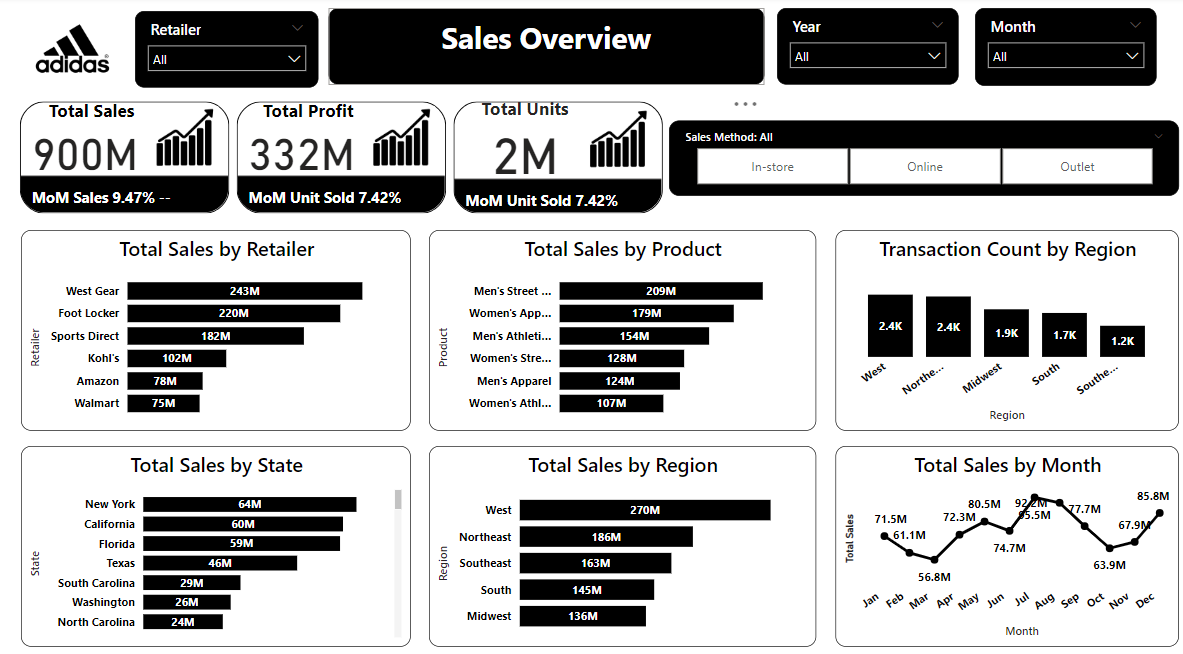

The page's visual inventory and layout, read from the dashboard file:
{"tool":"powerbi","page":{"name":"Sales Overview","canvas":[1280,720],"ordinal":1},"visuals":[{"type":"cardVisual","fields":{"Data":["Sum(Data Sales Adidas.Total Sales)","Data Sales Adidas.Total Profit","Data Sales Adidas.Total Units"]},"box":[15.8,108.2,706.8,131.6],"z":0},{"type":"clusteredBarChart","fields":{"Category":["Data Sales Adidas.Retailer"],"Y":["Sum(Data Sales Adidas.Total Sales)"]},"box":[22.7,252.6,421,217],"z":1000},{"type":"slicer","fields":{"Values":["Data Sales Adidas.Sales Method"]},"box":[722.6,134.5,550.9,81],"z":2000},{"type":"clusteredBarChart","fields":{"Category":["Data Sales Adidas.Product"],"Y":["Sum(Data Sales Adidas.Total Sales)"]},"box":[463.1,252.6,417.8,217],"z":3000},{"type":"clusteredBarChart","fields":{"Y":["Sum(Data Sales Adidas.Total Sales)"],"Category":["Location.State"]},"box":[22.7,485.8,421,217],"z":4000},{"type":"clusteredBarChart","fields":{"Y":["Sum(Data Sales Adidas.Total Sales)"],"Category":["Location.Region"]},"box":[463.1,485.8,417.8,217],"z":5000},{"type":"lineChart","title":"Total Sales by Month","fields":{"Y":["Sum(Data Sales Adidas.Total Sales)"],"Category":["Calendar.FYMonthName"]},"box":[901.9,485.8,370.8,217],"z":6000},{"type":"clusteredColumnChart","fields":{"Category":["Location.Region"],"Y":["Data Sales Adidas.Transaction Count"]},"box":[901.9,252.6,370.8,217],"z":7000},{"type":"slicer","fields":{"Values":["Calendar.Year"]},"box":[839.2,13.7,196.1,82.4],"z":8000},{"type":"slicer","fields":{"Values":["Calendar.FYMonthName"]},"box":[1052.9,13.7,196.1,84.3],"z":9000},{"type":"slicer","fields":{"Values":["Data Sales Adidas.Retailer"]},"box":[145.1,15.7,198,82.4],"z":10000},{"type":"image","box":[15.7,0,123.5,113.7],"z":11000},{"type":"textbox","box":[354.9,13.7,470.6,82.4],"z":12000}]}

Visuals, with their boxes in screenshot pixels (x1, y1, x2, y2), scaled from the page's 1280x720 canvas onto the 1183x654 screenshot:
cardVisual - Sum(Data Sales Adidas.Total Sales) x Data Sales Adidas.Total Profit: bbox(15, 98, 668, 218)
clusteredBarChart - Data Sales Adidas.Retailer x Sum(Data Sales Adidas.Total Sales): bbox(21, 229, 410, 427)
slicer - Data Sales Adidas.Sales Method: bbox(668, 122, 1177, 196)
clusteredBarChart - Data Sales Adidas.Product x Sum(Data Sales Adidas.Total Sales): bbox(428, 229, 814, 427)
clusteredBarChart - Sum(Data Sales Adidas.Total Sales) x Location.State: bbox(21, 441, 410, 638)
clusteredBarChart - Sum(Data Sales Adidas.Total Sales) x Location.Region: bbox(428, 441, 814, 638)
"Total Sales by Month" lineChart: bbox(834, 441, 1176, 638)
clusteredColumnChart - Location.Region x Data Sales Adidas.Transaction Count: bbox(834, 229, 1176, 427)
slicer - Calendar.Year: bbox(776, 12, 957, 87)
slicer - Calendar.FYMonthName: bbox(973, 12, 1154, 89)
slicer - Data Sales Adidas.Retailer: bbox(134, 14, 317, 89)
image: bbox(15, 0, 129, 103)
textbox: bbox(328, 12, 763, 87)
